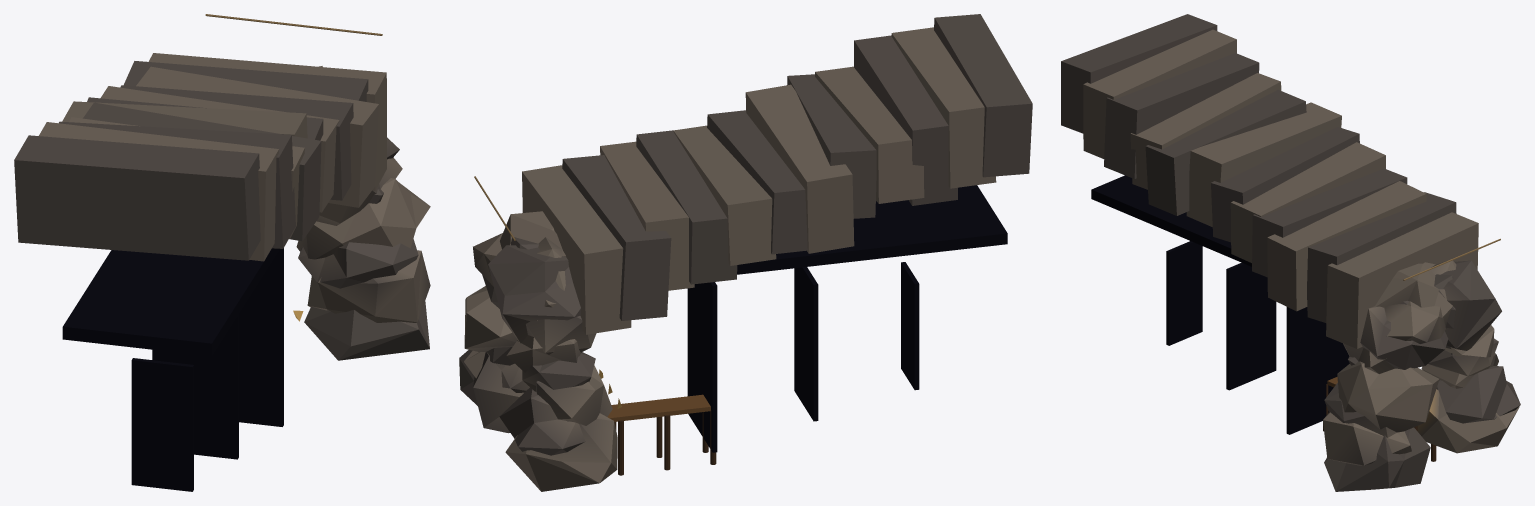
File: coast_smugglers_throat_lod1.glb
3 renders of one model, left to right at view 1: azimuth 30°, elevation 25°; view 2: azimuth 150°, elevation 25°; view 3: azimuth 270°, elevation 25°, orthographic. The views are drawn at different scales.
Visible parts, largest first — view 1: geometry_0; view 2: geometry_0; view 3: geometry_0.
Part boxes in pixels (left/top/right/bottom): geometry_0: left=14, top=14, right=430, bottom=491; geometry_0: left=459, top=14, right=1032, bottom=491; geometry_0: left=1061, top=14, right=1520, bottom=491.
Size of the model in its own units: 44.57 by 33.27 by 43.72.
